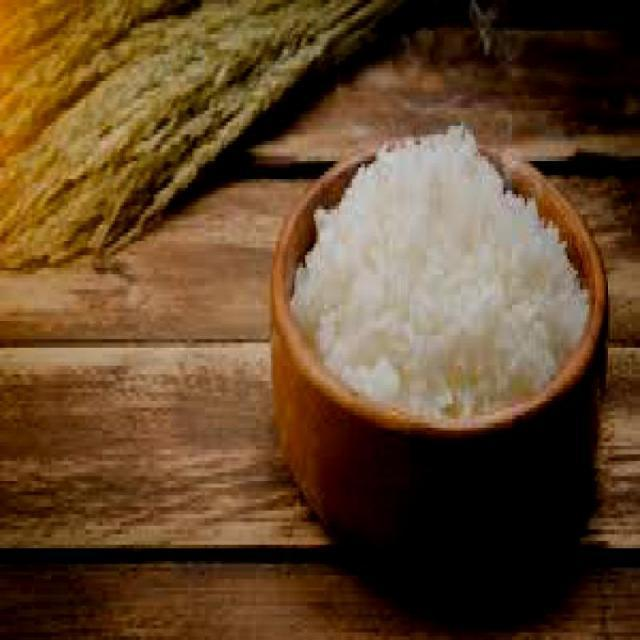Chicken -Chicken Inasal-: (283, 136, 591, 418)
